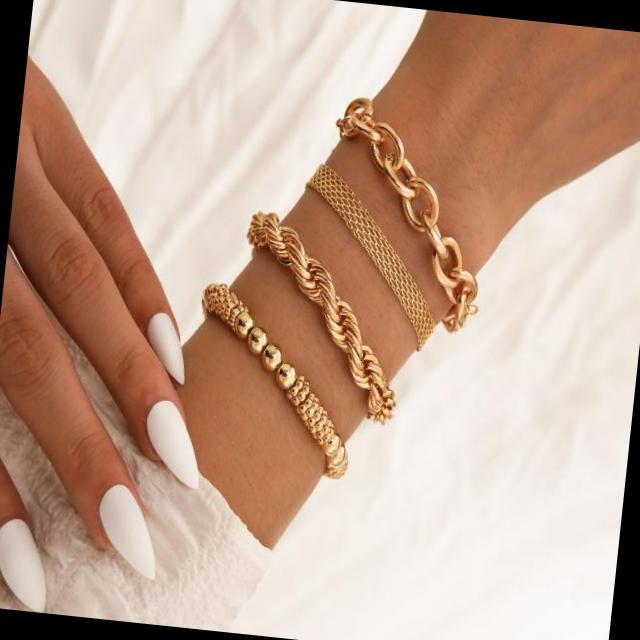Nail: (99, 483, 154, 578), (146, 401, 198, 487), (0, 520, 43, 612), (145, 312, 183, 382)
